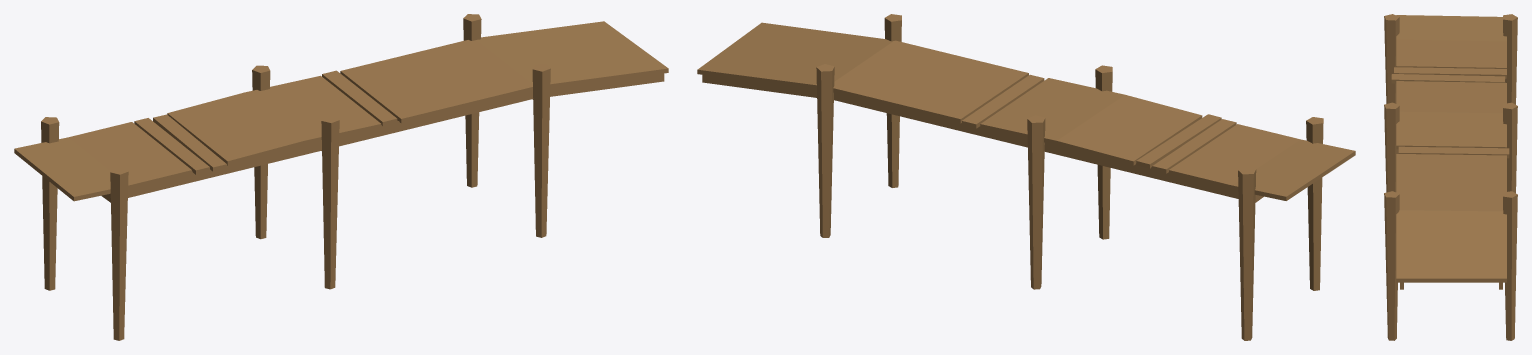
File: dock_01.fbx
3 views of the same model, side by side, from view 1: azimuth 30°, elevation 25°; view 2: azimuth 150°, elevation 25°; view 3: azimuth 270°, elevation 25° (orthographic). The views are drawn at different scales.
Parts seen in each view (by area): view 1: dock_01; view 2: dock_01; view 3: dock_01.
Boxes of the visible parts, bbox=[...] form: dock_01: bbox=[14, 14, 668, 340]; dock_01: bbox=[697, 14, 1355, 340]; dock_01: bbox=[1384, 14, 1517, 340].
Size of the model in its own units: 791 by 214 by 179.
